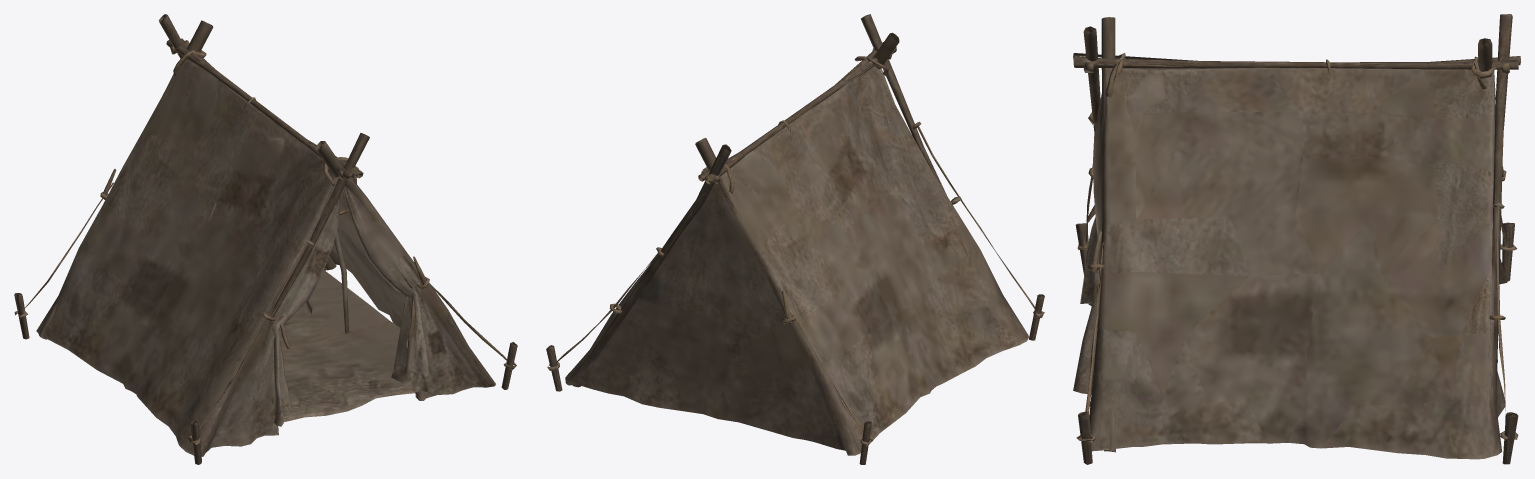
The model's file is p_tent.glb.
3 renders of one model, left to right at view 1: azimuth 30°, elevation 25°; view 2: azimuth 150°, elevation 25°; view 3: azimuth 270°, elevation 25°, orthographic. The views are drawn at different scales.
Visible parts, largest first — view 1: p_tent; view 2: p_tent; view 3: p_tent.
Boxes of the visible parts, box(x1,y1,x2,y2) form: p_tent: box(14, 14, 517, 464); p_tent: box(546, 14, 1044, 464); p_tent: box(1073, 14, 1520, 464).
Bounding box in the file's own units: 2.47 × 2.1 × 2.42.
Materials: 1 (1 with a texture image).
